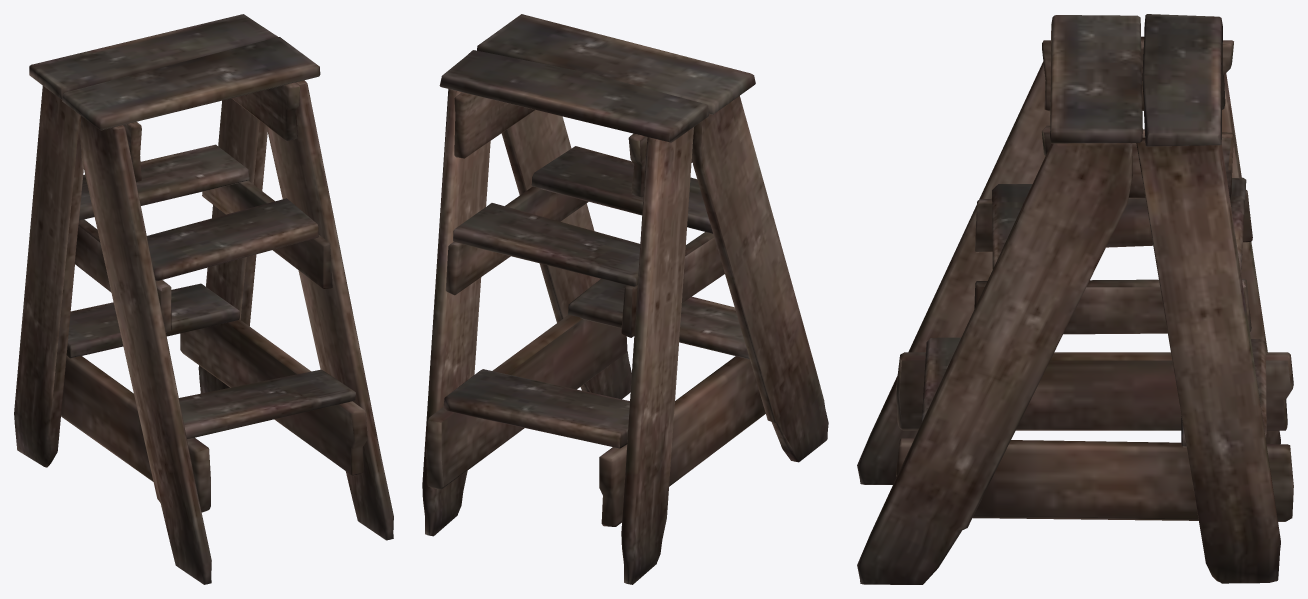
The model's file is AEG228_156-transformed.glb.
3 views of the same model, side by side, from view 1: azimuth 30°, elevation 25°; view 2: azimuth 150°, elevation 25°; view 3: azimuth 270°, elevation 25° (orthographic). The views are drawn at different scales.
Parts seen in each view (by area): view 1: default; view 2: default; view 3: default.
Boxes of the visible parts, x1=… form: default: x1=14, y1=14, x2=393, y2=584; default: x1=422, y1=14, x2=828, y2=584; default: x1=857, y1=14, x2=1293, y2=584.
Size of the model in its own units: 0.5865 by 1.04 by 0.8933.
1 material, 1 textured.
